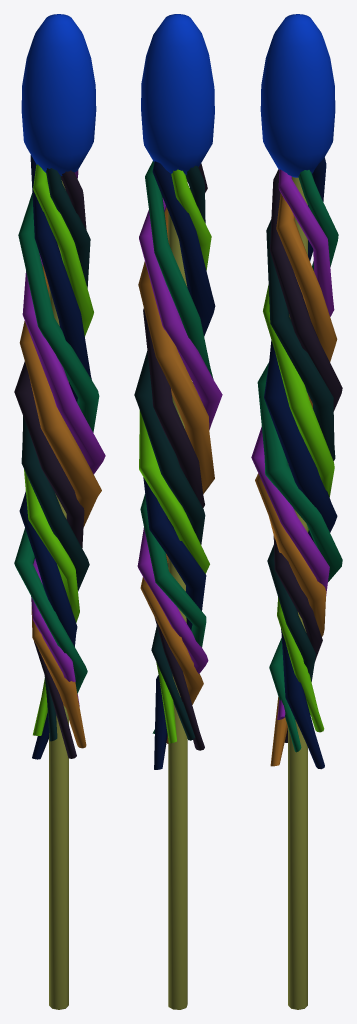
File: Nakjihorongkkaebi.fbx
3 views of the same model, side by side, from view 1: azimuth 90°, elevation 25°; view 2: azimuth 150°, elevation 25°; view 3: azimuth 270°, elevation 25° (orthographic).
Parts seen in each view (by area): view 1: Nakjihorongkkaebi; view 2: Nakjihorongkkaebi; view 3: Nakjihorongkkaebi.
Boxes of the visible parts, x1,y1,x2,y2 form: Nakjihorongkkaebi: (14, 14, 105, 1009); Nakjihorongkkaebi: (134, 14, 222, 1009); Nakjihorongkkaebi: (251, 14, 342, 1009).
Bounding box in the file's own units: 3.94 × 49.56 × 4.14.
